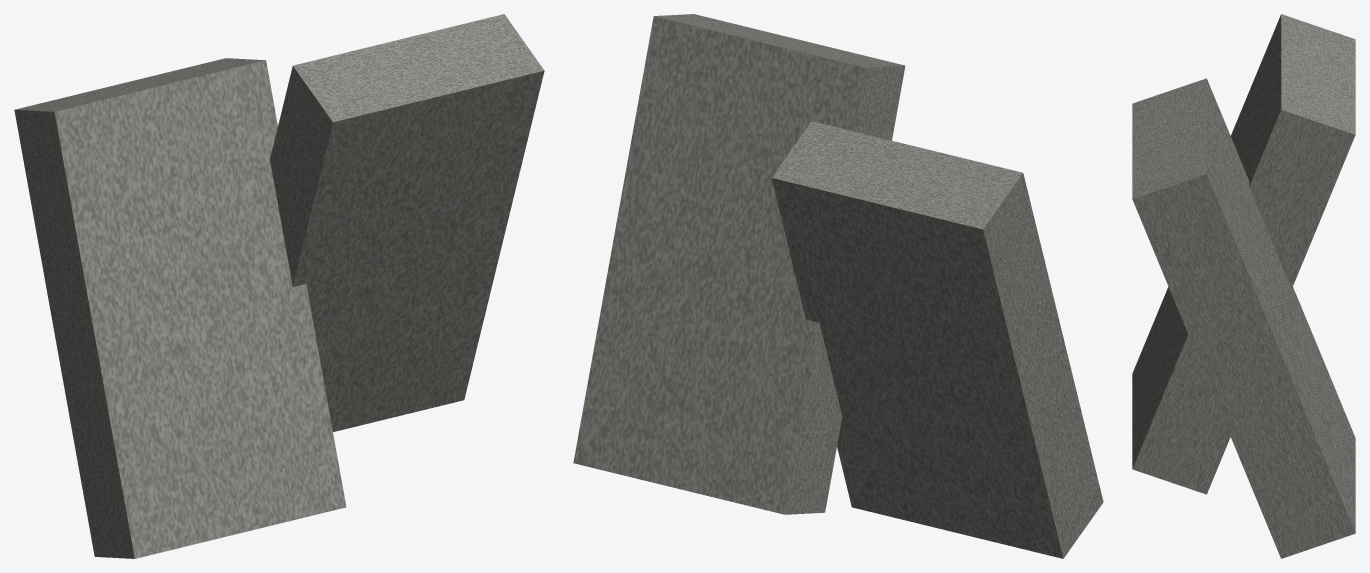
3 renders of one model, left to right at view 1: azimuth 30°, elevation 25°; view 2: azimuth 150°, elevation 25°; view 3: azimuth 270°, elevation 25°, orthographic. The views are drawn at different scales.
Parts seen in each view (by area): view 1: roof_pitched_hip_lod0_run001; view 2: roof_pitched_hip_lod0_run001; view 3: roof_pitched_hip_lod0_run001.
Boxes of the visible parts, box(x1,y1,x2,y2) form: roof_pitched_hip_lod0_run001: box(14, 14, 544, 558); roof_pitched_hip_lod0_run001: box(573, 14, 1103, 558); roof_pitched_hip_lod0_run001: box(1132, 14, 1355, 558).
Bounding box in the file's own units: 8.27 × 8.54 × 4.21.
1 material, 1 textured.
